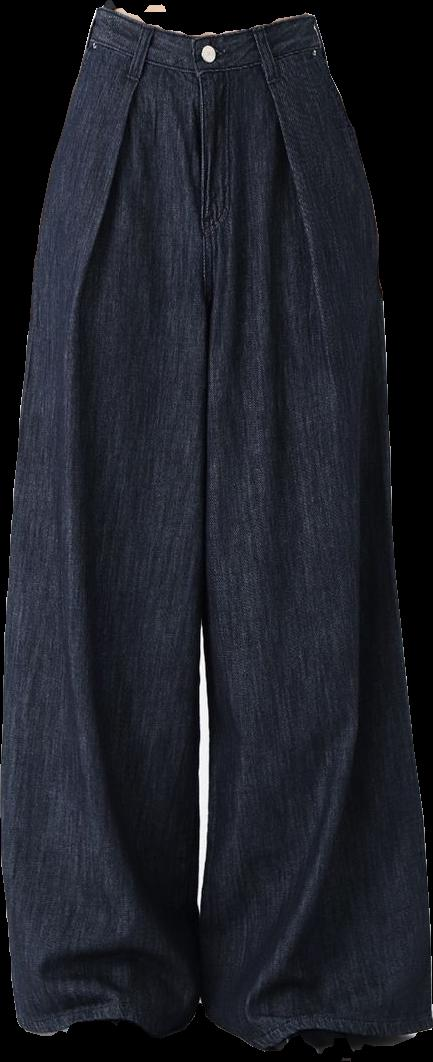Hemline: (240, 1021, 432, 1050), (26, 1010, 175, 1039)
Pantleg: (198, 14, 432, 1051), (1, 2, 203, 1037)
Waistline: (95, 2, 315, 47), (84, 39, 326, 75)
